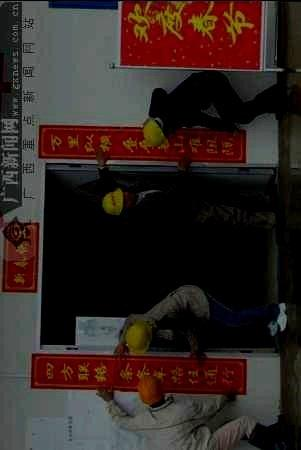helmet: (137, 374, 166, 409), (124, 319, 152, 354), (102, 188, 134, 216), (142, 117, 169, 147)
